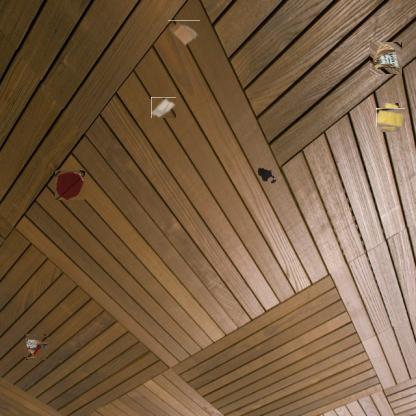dirty: (370, 42, 402, 74), (168, 20, 200, 47), (378, 106, 403, 130), (24, 336, 48, 358), (151, 97, 176, 118)
liquid: (55, 170, 85, 200), (256, 166, 278, 184)
